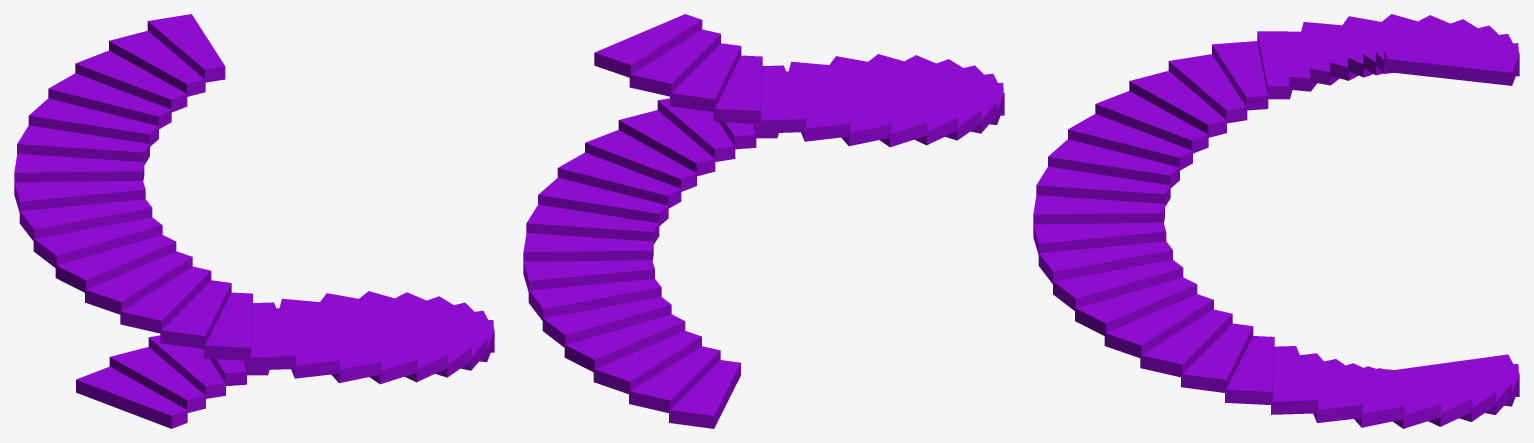
Rendered from Staircase.fbx.
3 renders of one model, left to right at view 1: azimuth 30°, elevation 25°; view 2: azimuth 150°, elevation 25°; view 3: azimuth 270°, elevation 25°, orthographic.
Parts seen in each view (by area): view 1: stairs; view 2: stairs; view 3: stairs.
Boxes of the visible parts, x1,y1,x2,y2 form: stairs: (14,14,494,428); stairs: (523,14,1004,428); stairs: (1033,14,1519,428).
Size of the model in its own units: 103 by 82.21 by 103.
